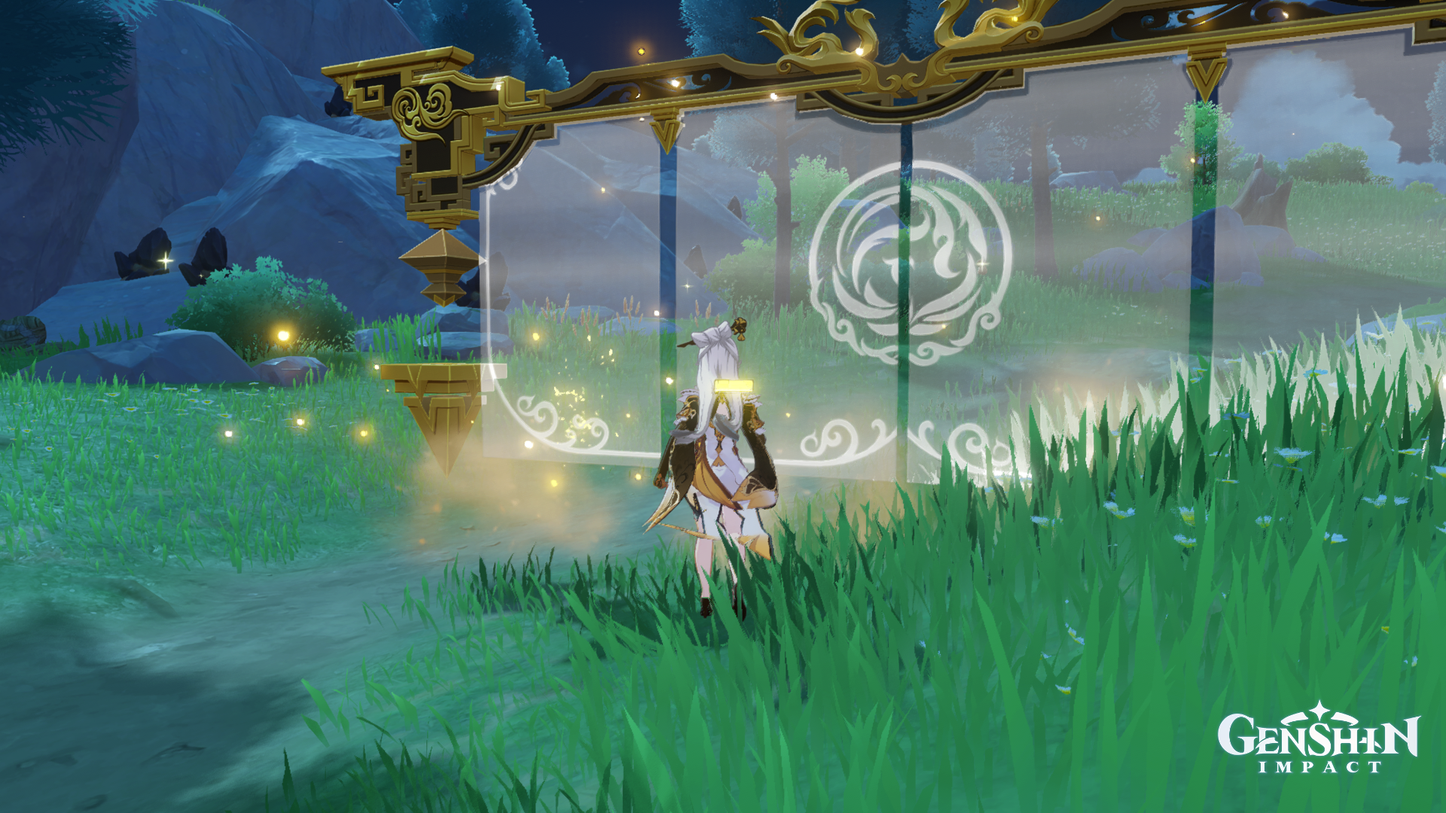Human: (660, 325, 780, 606)
Ore: (451, 250, 514, 311), (112, 226, 172, 279), (183, 230, 233, 290), (317, 81, 356, 120), (681, 241, 707, 279), (726, 190, 742, 220)
